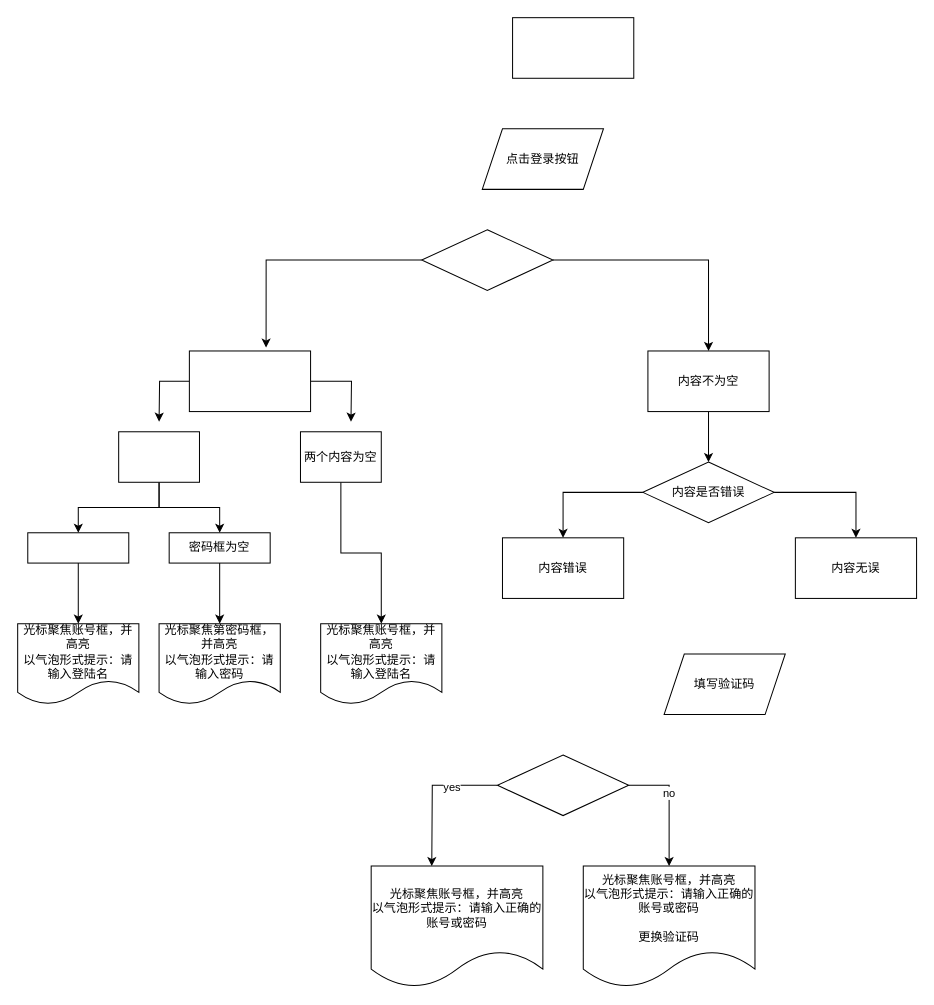
Image size: 934x1005. Some labels were removed from this diagram. The shapes that lost their labels are listed below. From the top down, each one's centre as x and y in pixels, then its label:
At point 573,47: "账号登陆".
At point 487,259: "内容是否为空".
At point 249,381: "内容为空".
At point 158,456: "一个内容为空".
At point 78,547: "账号框为空".
At point 562,785: "验证是否正确".
